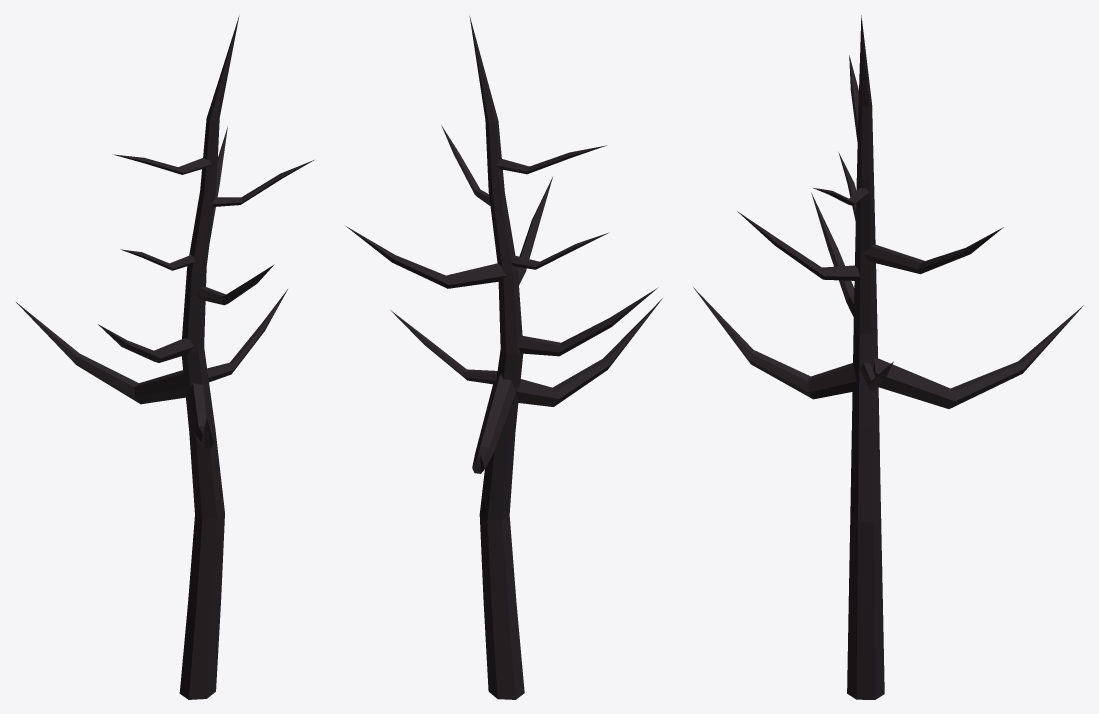
File: scarytree1.fbx
3 views of the same model, side by side, from view 1: azimuth 30°, elevation 25°; view 2: azimuth 150°, elevation 25°; view 3: azimuth 270°, elevation 25° (orthographic). The views are drawn at different scales.
Parts seen in each view (by area): view 1: Cylinder.031; view 2: Cylinder.031; view 3: Cylinder.031.
Boxes of the visible parts, x1=… form: Cylinder.031: x1=16, y1=16, x2=313, y2=699; Cylinder.031: x1=346, y1=16, x2=662, y2=699; Cylinder.031: x1=693, y1=15, x2=1083, y2=699.
Size of the model in its own units: 316 by 876 by 445.
